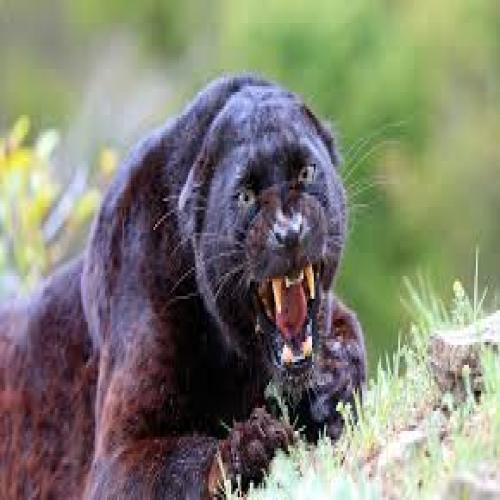panther-endangered: (0, 85, 366, 500)
